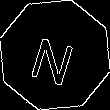N_N: (28, 25, 82, 85)
